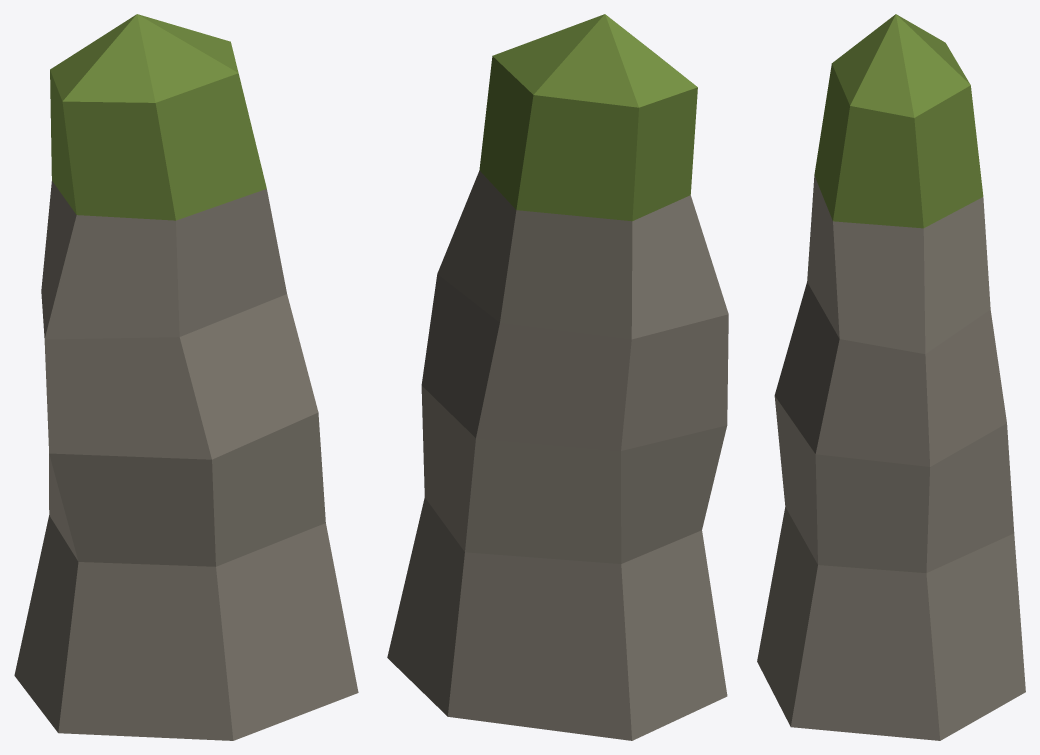
The model's file is menhir-2.glb.
3 renders of one model, left to right at view 1: azimuth 30°, elevation 25°; view 2: azimuth 150°, elevation 25°; view 3: azimuth 270°, elevation 25°, orthographic. The views are drawn at different scales.
Visible parts, largest first — view 1: menhir-2; view 2: menhir-2; view 3: menhir-2.
Boxes of the visible parts, x1,y1,x2,y2 form: menhir-2: (14,14,358,740); menhir-2: (387,14,728,740); menhir-2: (757,14,1025,740).
Size of the model in its own units: 0.9524 by 2.03 by 0.7762.
